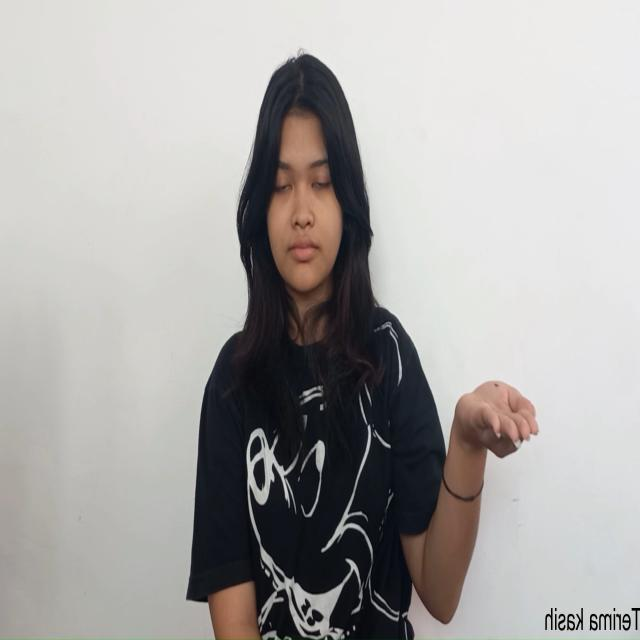Terima kasih -BISINDO-: (451, 375, 541, 468)
